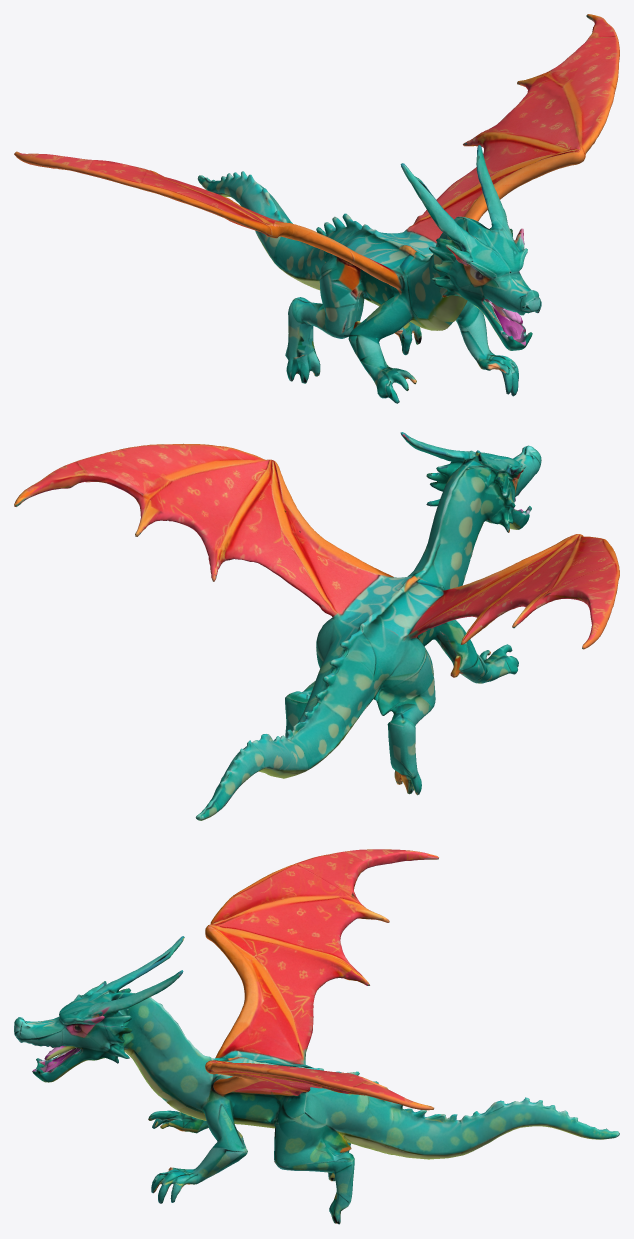
Rendered from dragon.glb.
3 views of the same model, one above another, from view 1: azimuth 30°, elevation 25°; view 2: azimuth 150°, elevation 25°; view 3: azimuth 270°, elevation 25° (orthographic). The views are drawn at different scales.
Size of the model in its own units: 1.99 by 0.9163 by 2.
1 material, 1 textured.
